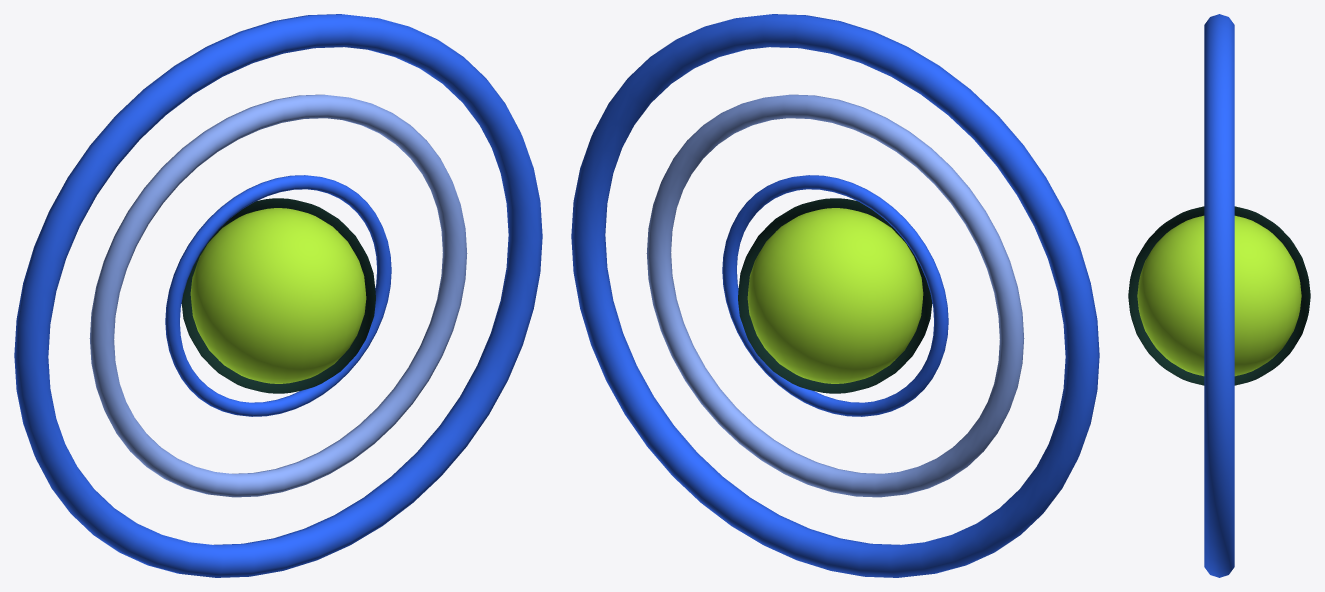
Rendered from icon-realtime.glb.
The picture shows the model from 3 angles, left to right: view 1: azimuth 30°, elevation 25°; view 2: azimuth 150°, elevation 25°; view 3: azimuth 270°, elevation 25°; orthographic projection. The views are drawn at different scales.
Parts seen in each view (by area): view 1: RingMesh2, Core, RingMesh1, RingMesh0; view 2: RingMesh2, Core, RingMesh1, RingMesh0; view 3: Core, RingMesh2.
Boxes of the visible parts, x1,y1,x2,y2 form: RingMesh2: [14, 14, 542, 577]; Core: [181, 198, 375, 393]; RingMesh1: [89, 94, 467, 497]; RingMesh0: [165, 175, 391, 416]; RingMesh2: [571, 14, 1099, 577]; Core: [738, 198, 932, 393]; RingMesh1: [646, 94, 1024, 497]; RingMesh0: [722, 175, 948, 416]; Core: [1128, 206, 1310, 385]; RingMesh2: [1204, 14, 1234, 577].
Bounding box in the file's own units: 1.24 × 1.24 × 0.4.
